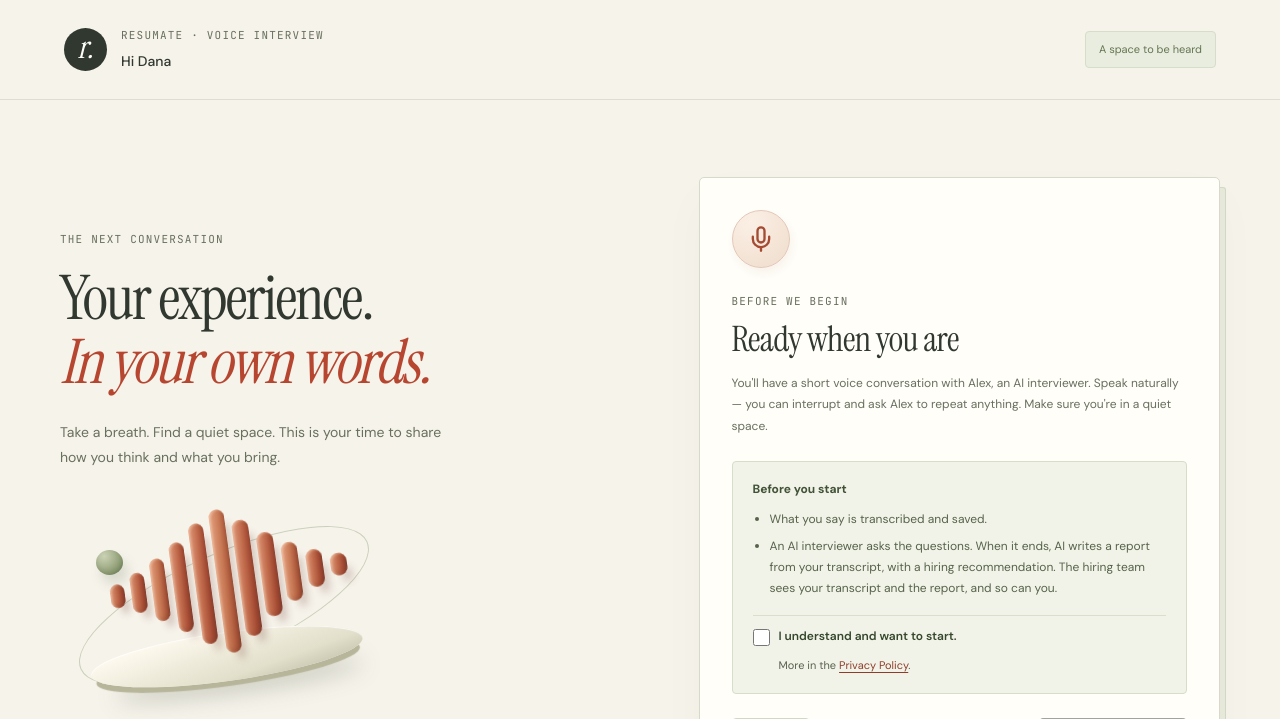
the voice interview › says what happens, and waits for the candidate to agree
The width and height of the screenshot is (1280, 719).
Expected: the list item "What you say is transcribed and saved." is shown, [770,511,987,527]
Expected: the list item "ai writes a report from your transcript, with a hiring recommendation" is shown, [770,538,1150,596]
Click the checkbox labelled "I understand and want to start.".
click(761, 638)  # box [752,629,770,646]
(page scrolled)
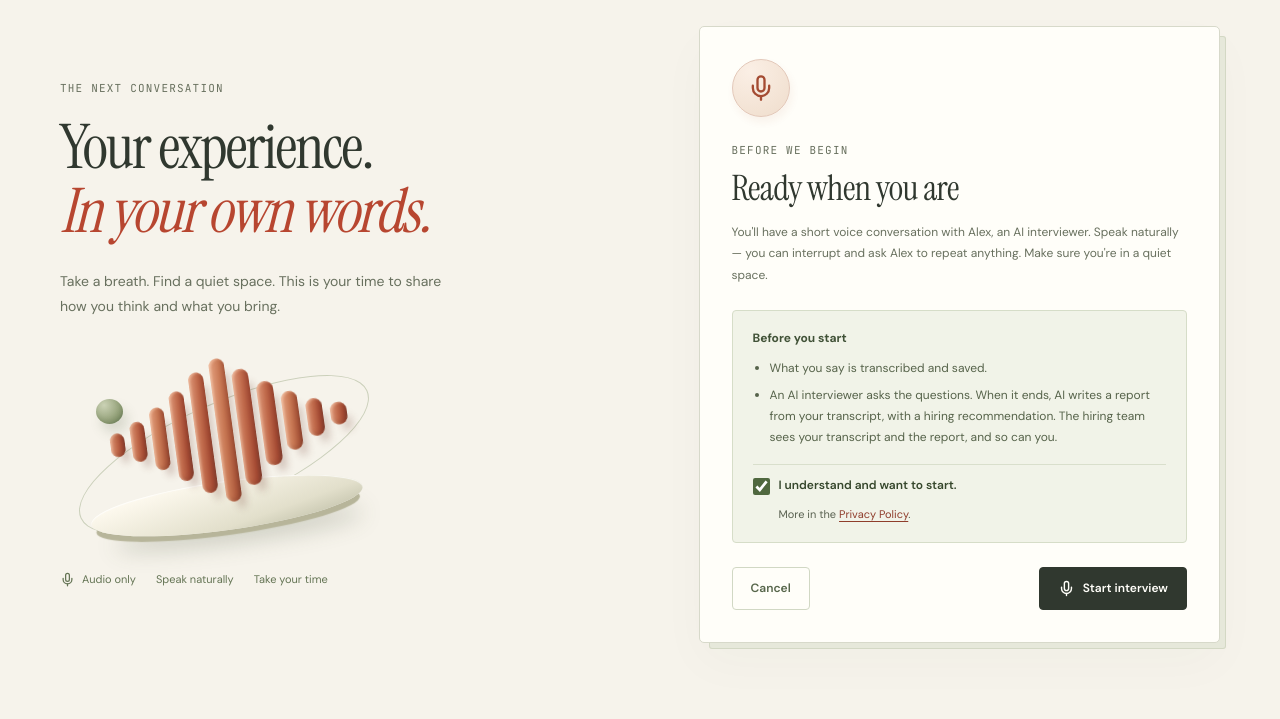
Expected: the button "Start interview" is enabled, [1039,567,1187,610]
